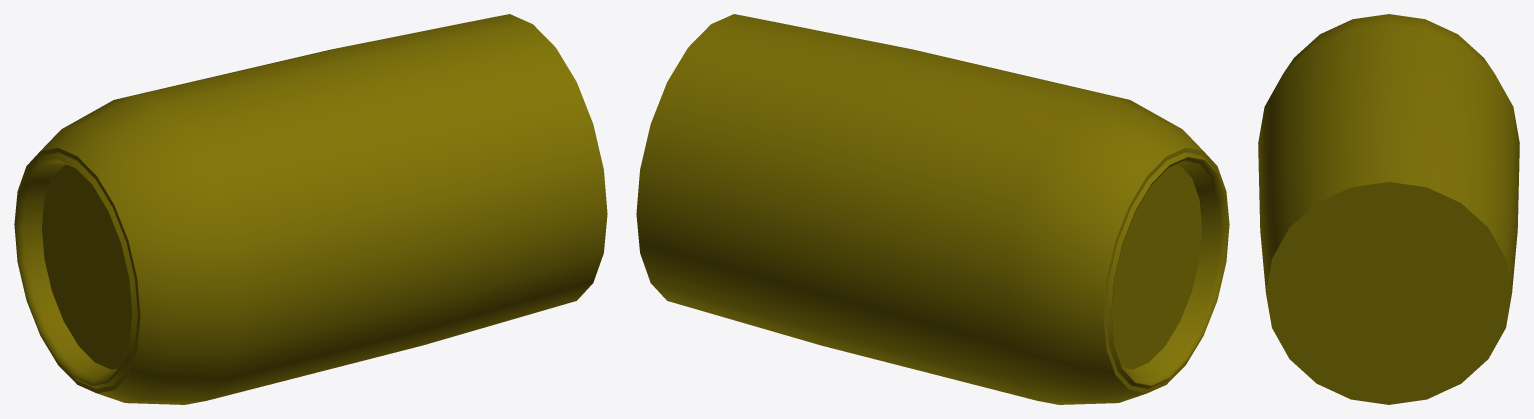
Rendered from Bullet.fbx.
The picture shows the model from 3 angles, left to right: view 1: azimuth 30°, elevation 25°; view 2: azimuth 150°, elevation 25°; view 3: azimuth 270°, elevation 25°; orthographic projection. The views are drawn at different scales.
Parts seen in each view (by area): view 1: Bullet; view 2: Bullet; view 3: Bullet.
Part boxes in pixels (x1,y1,x2,y2): Bullet: [14, 14, 607, 404]; Bullet: [636, 14, 1229, 404]; Bullet: [1258, 14, 1519, 404].
Size of the model in its own units: 0.8321 by 0.4981 by 0.4981.
